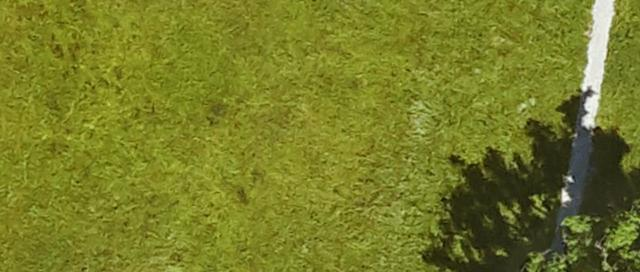tree: (531, 202, 640, 272)
